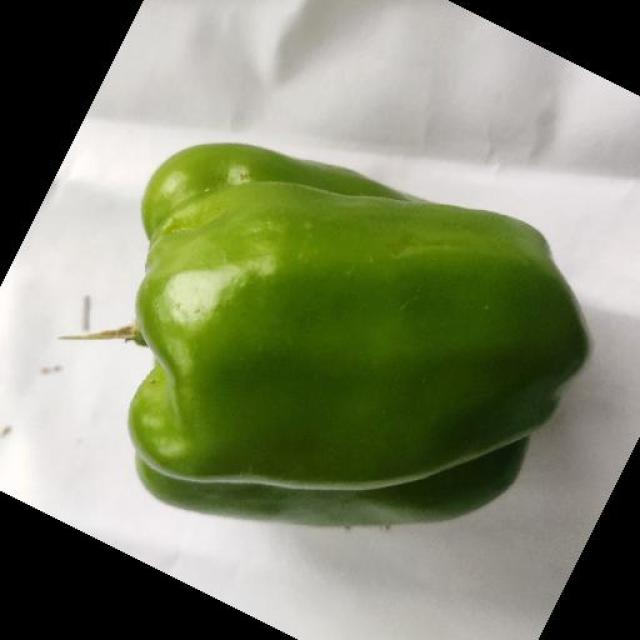Fresh_Capsicum: (130, 146, 590, 527)
